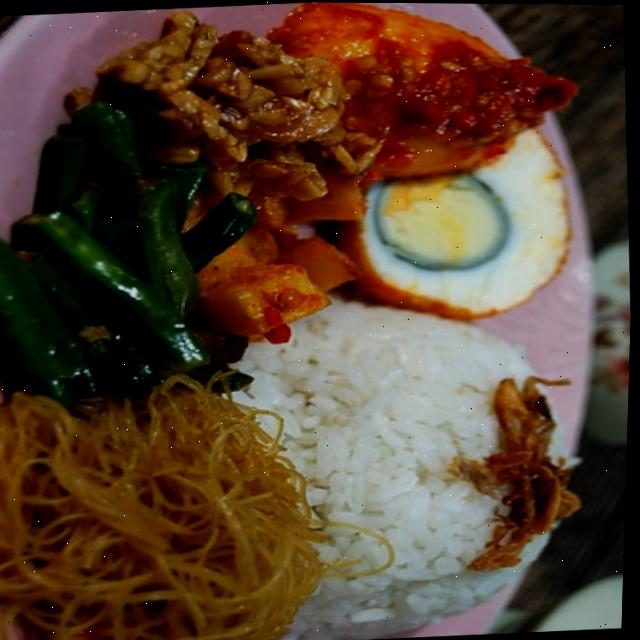米饭主食: (0, 4, 628, 640)
